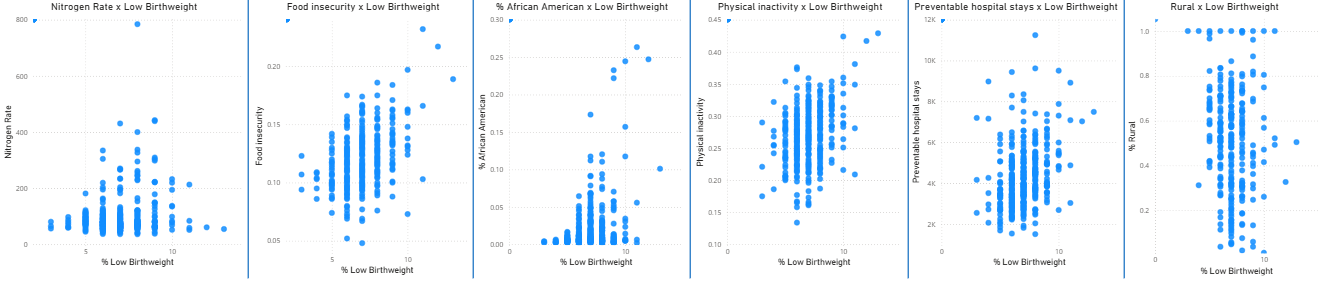

Layout of this report page (visuals, bound fields, positions):
{"tool":"powerbi","page":{"name":"C1","canvas":[1280,720],"ordinal":3},"visuals":[{"type":"scatterChart","fields":{"X":["NCH2017.% Low Birthweight 20142020"],"Y":["NCH2017.Food insecurity 2017 raw value"]},"box":[0,1,340.3,436.4],"z":0},{"type":"scatterChart","fields":{"X":["NCH2017.% Low Birthweight 20142020"],"Y":["NCH2017.percent Non-Hispanic African American2017  raw value"]},"box":[311.4,1,340.3,436.4],"z":1000},{"type":"scatterChart","fields":{"X":["NCH2017.% Low Birthweight 20142020"],"Y":["NCH2017.Physical inactivity 2017 raw value"]},"box":[662.1,0,340.3,436.4],"z":2000},{"type":"scatterChart","fields":{"X":["NCH2017.% Low Birthweight 20142020"],"Y":["NCH2017.Preventable hospital stays 2017 raw value"]},"box":[698,283.6,340.3,436.4],"z":3000},{"type":"scatterChart","fields":{"X":["NCH2017.% Low Birthweight 20142020"],"Y":["NCH2017.NitrogenRate 2017"]},"box":[0,387.8,331.1,332.2],"z":4000},{"type":"scatterChart","fields":{"Y":["NCH2017.percent Rural 2010 raw value"],"X":["NCH2017.% Low Birthweight 20142020"]},"box":[340.3,360,357.7,360],"z":5000}]}

Visuals, with their boxes on the page's 1280x720 design canvas (x1, y1, x2, y2). These are canvas units, not pixel positions in the 1321x282 screenshot, which may show the page scaled, cropped or inside an application window:
scatterChart - NCH2017.% Low Birthweight 20142020 x NCH2017.Food insecurity 2017 raw value: [left=0, top=1, right=340, bottom=437]
scatterChart - NCH2017.% Low Birthweight 20142020 x NCH2017.percent Non-Hispanic African American2017  raw value: [left=311, top=1, right=652, bottom=437]
scatterChart - NCH2017.% Low Birthweight 20142020 x NCH2017.Physical inactivity 2017 raw value: [left=662, top=0, right=1002, bottom=436]
scatterChart - NCH2017.% Low Birthweight 20142020 x NCH2017.Preventable hospital stays 2017 raw value: [left=698, top=284, right=1038, bottom=720]
scatterChart - NCH2017.% Low Birthweight 20142020 x NCH2017.NitrogenRate 2017: [left=0, top=388, right=331, bottom=720]
scatterChart - NCH2017.percent Rural 2010 raw value x NCH2017.% Low Birthweight 20142020: [left=340, top=360, right=698, bottom=720]
